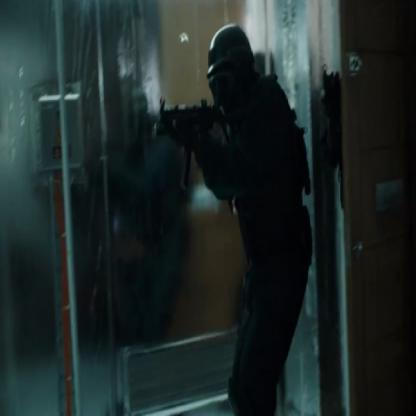Guns: (150, 99, 226, 189), (318, 60, 341, 157)
